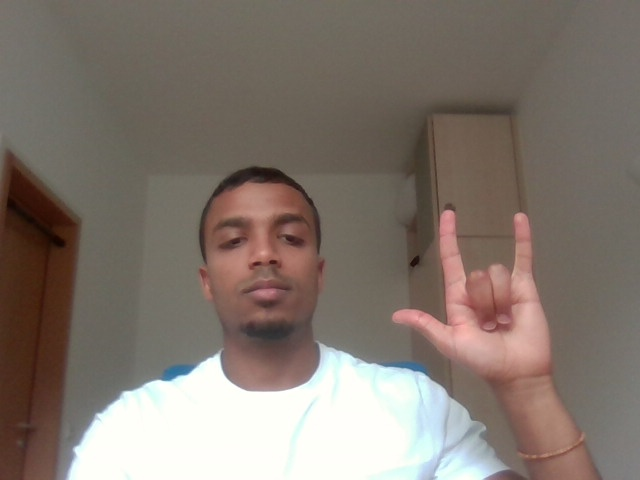absolutely: (389, 202, 570, 390)
